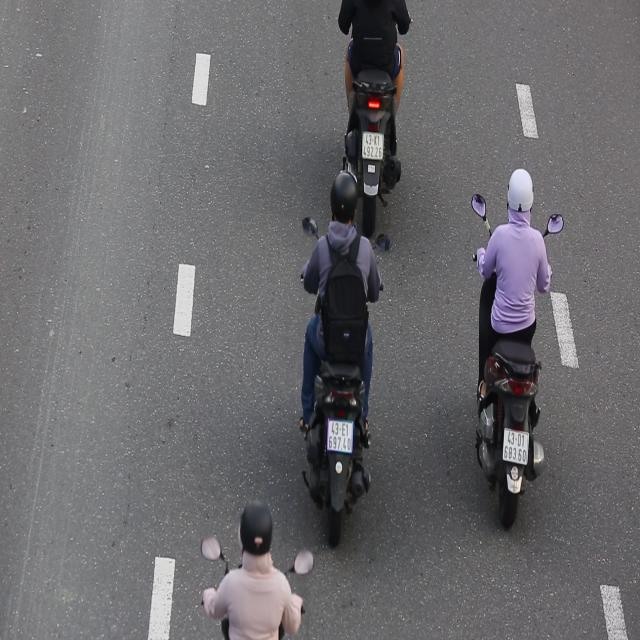motorbike: (465, 163, 564, 533), (295, 172, 382, 541)
